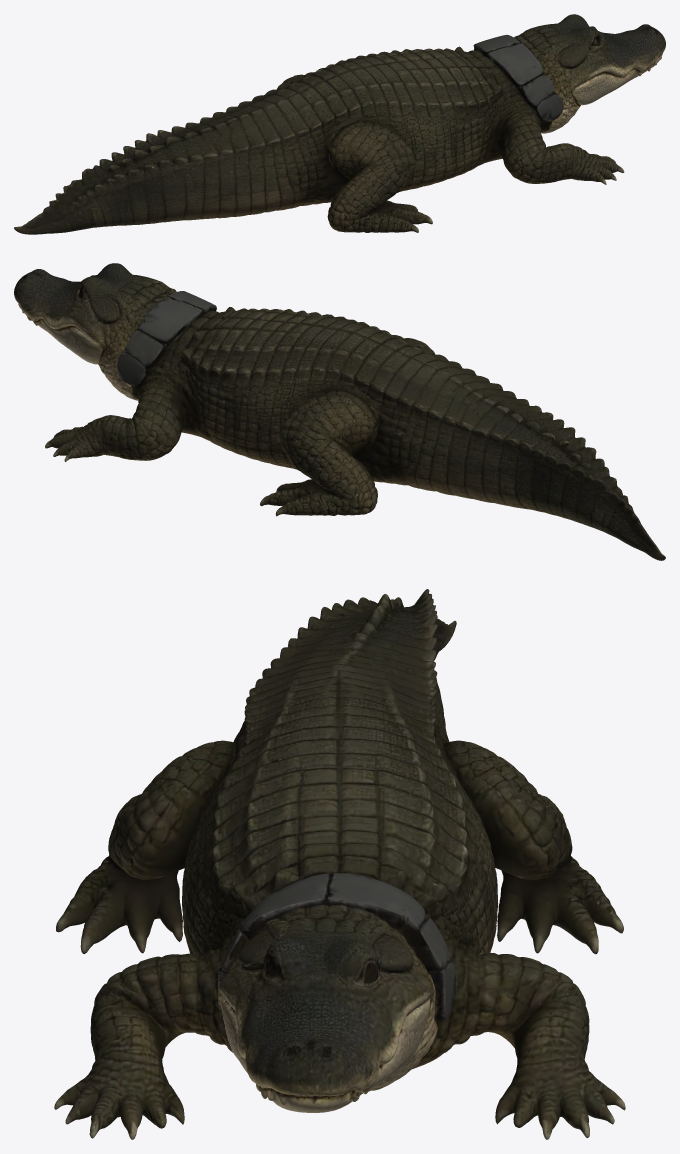
File: 9ccd902e-0ce5-40e5-a396-9b16726e9ff1.glb
3 views of the same model, one above another, from view 1: azimuth 30°, elevation 25°; view 2: azimuth 150°, elevation 25°; view 3: azimuth 270°, elevation 25° (orthographic). The views are drawn at different scales.
Parts seen in each view (by area): view 1: tripo_node_9ccd902e-0ce5-40e5-a396-9b16726e9ff1; view 2: tripo_node_9ccd902e-0ce5-40e5-a396-9b16726e9ff1; view 3: tripo_node_9ccd902e-0ce5-40e5-a396-9b16726e9ff1.
Part boxes in pixels (x1,y1,x2,y2): tripo_node_9ccd902e-0ce5-40e5-a396-9b16726e9ff1: [14, 14, 665, 234]; tripo_node_9ccd902e-0ce5-40e5-a396-9b16726e9ff1: [14, 263, 665, 560]; tripo_node_9ccd902e-0ce5-40e5-a396-9b16726e9ff1: [54, 589, 625, 1139].
Size of the model in its own units: 0.9998 by 0.175 by 0.4038.
Materials: 1 (1 with a texture image).
